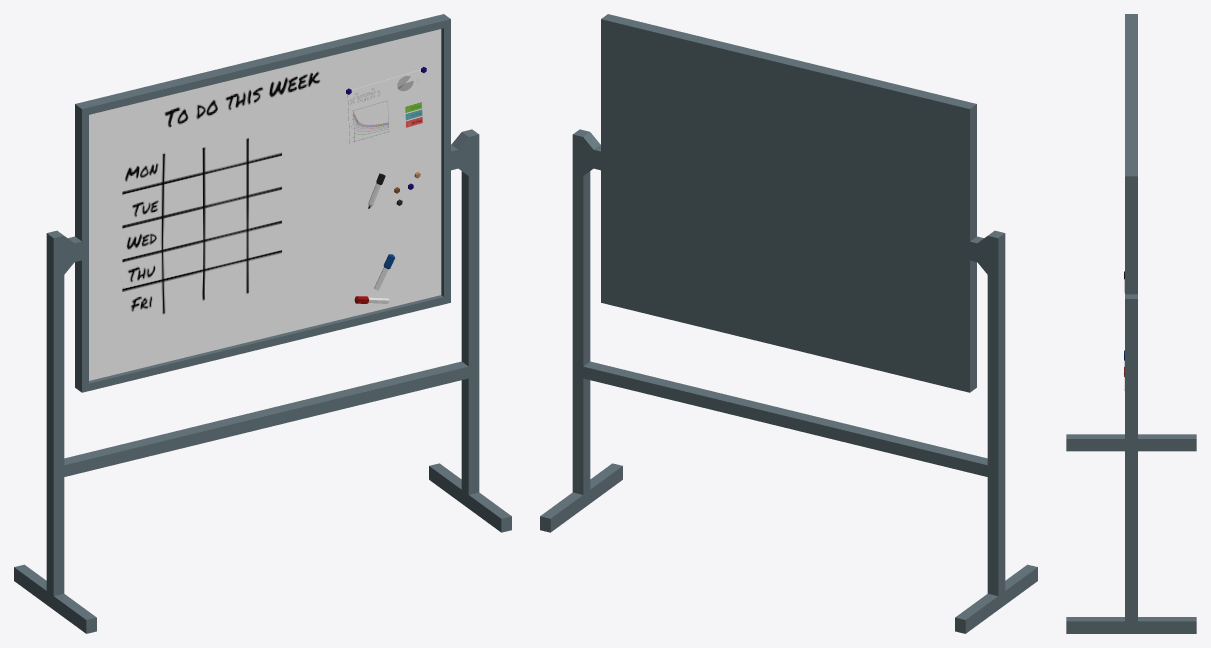
File: BoardV3_T.fbx
3 views of the same model, side by side, from view 1: azimuth 30°, elevation 25°; view 2: azimuth 150°, elevation 25°; view 3: azimuth 270°, elevation 25° (orthographic). The views are drawn at different scales.
Parts seen in each view (by area): view 1: BoardV3_T_Board, BoardV3_T; view 2: BoardV3_T_Board, BoardV3_T; view 3: BoardV3_T, BoardV3_T_Board.
Boxes of the visible parts, bbox=[...] form: BoardV3_T_Board: bbox=[75, 14, 450, 392]; BoardV3_T: bbox=[14, 129, 511, 633]; BoardV3_T_Board: bbox=[601, 14, 976, 392]; BoardV3_T: bbox=[540, 129, 1037, 633]; BoardV3_T: bbox=[1066, 294, 1196, 633]; BoardV3_T_Board: bbox=[1124, 14, 1137, 390].
Bounding box in the file's own units: 136 × 151 × 39.97.
